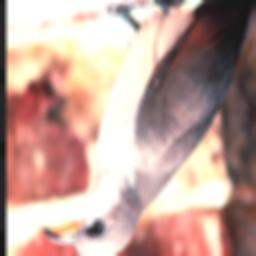Cuckoo: (42, 0, 256, 256)
